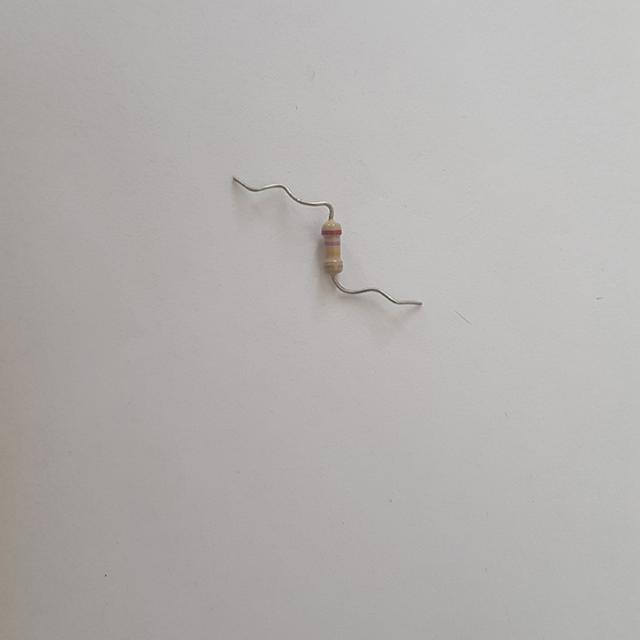gold: (323, 261, 342, 265)
red: (322, 229, 341, 233)
resistor: (315, 216, 347, 283)
violet: (324, 240, 339, 245)
yellow: (325, 251, 340, 254)
